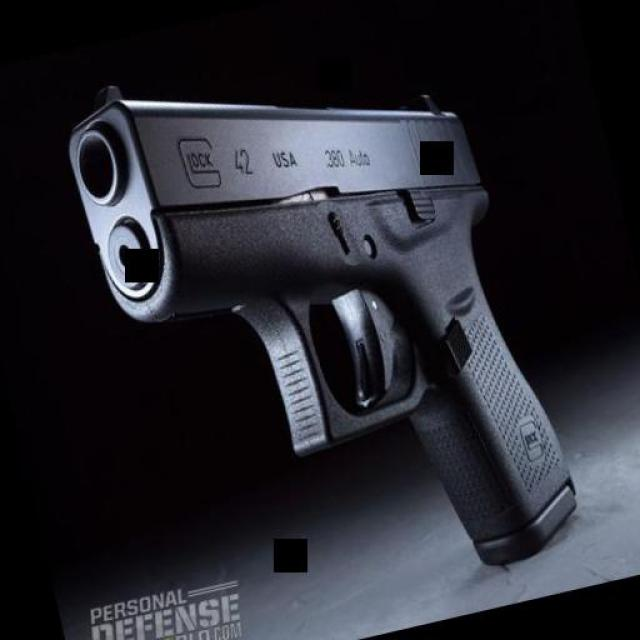gun: (45, 0, 586, 636)
